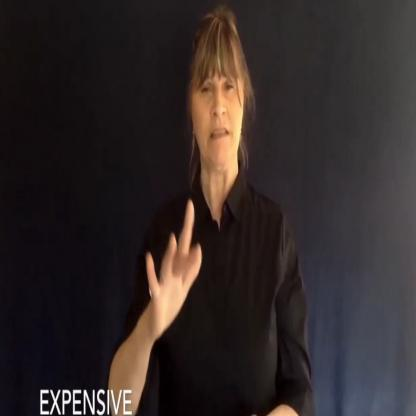Expensive: (142, 204, 263, 416)
